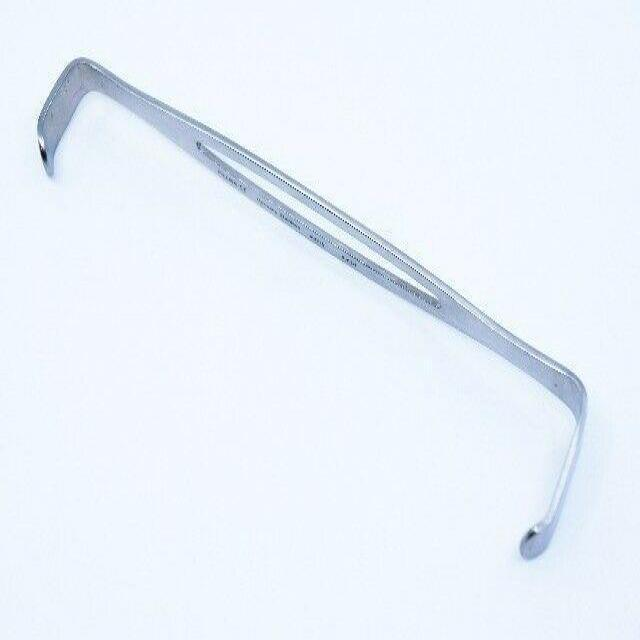Army_navy: (33, 45, 592, 565)
